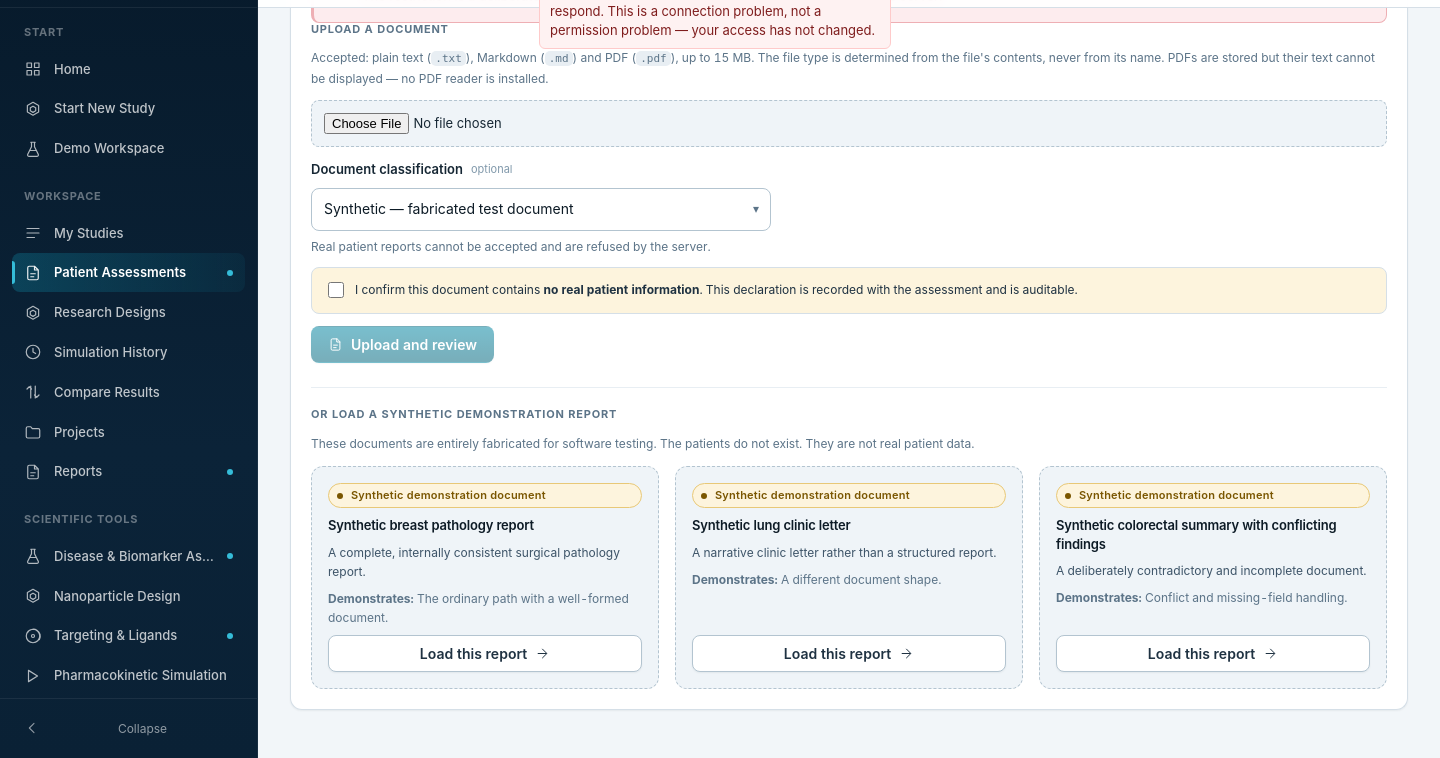
Test: no fabrication › leaves an unfound field empty and says it was not stated
(page scrolled)
Expected: the element with test id "synthetic-reports" is shown, [311,466,1387,689]
Step 1. Click the button "Load this report" below "Synthetic breast pathology report" → (485, 654), box [328,635,642,672]
(page scrolled)
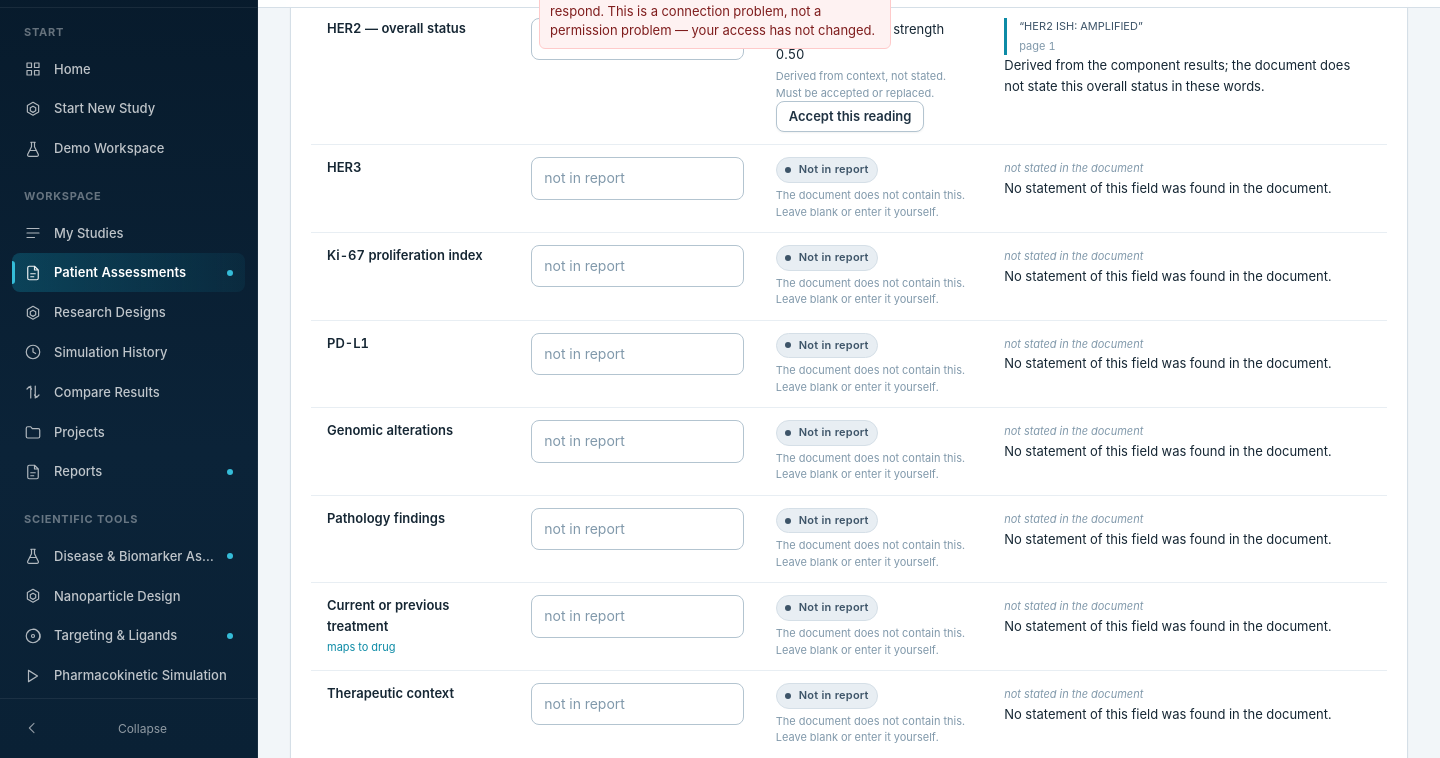
Result: the text "Not in report" is shown at [776,333,878,358]
Result: the 3rd text "not stated in the document" is shown at [1004,337,1143,351]
Result: the field labelled "PD-L1" is empty at [531,333,744,375]
